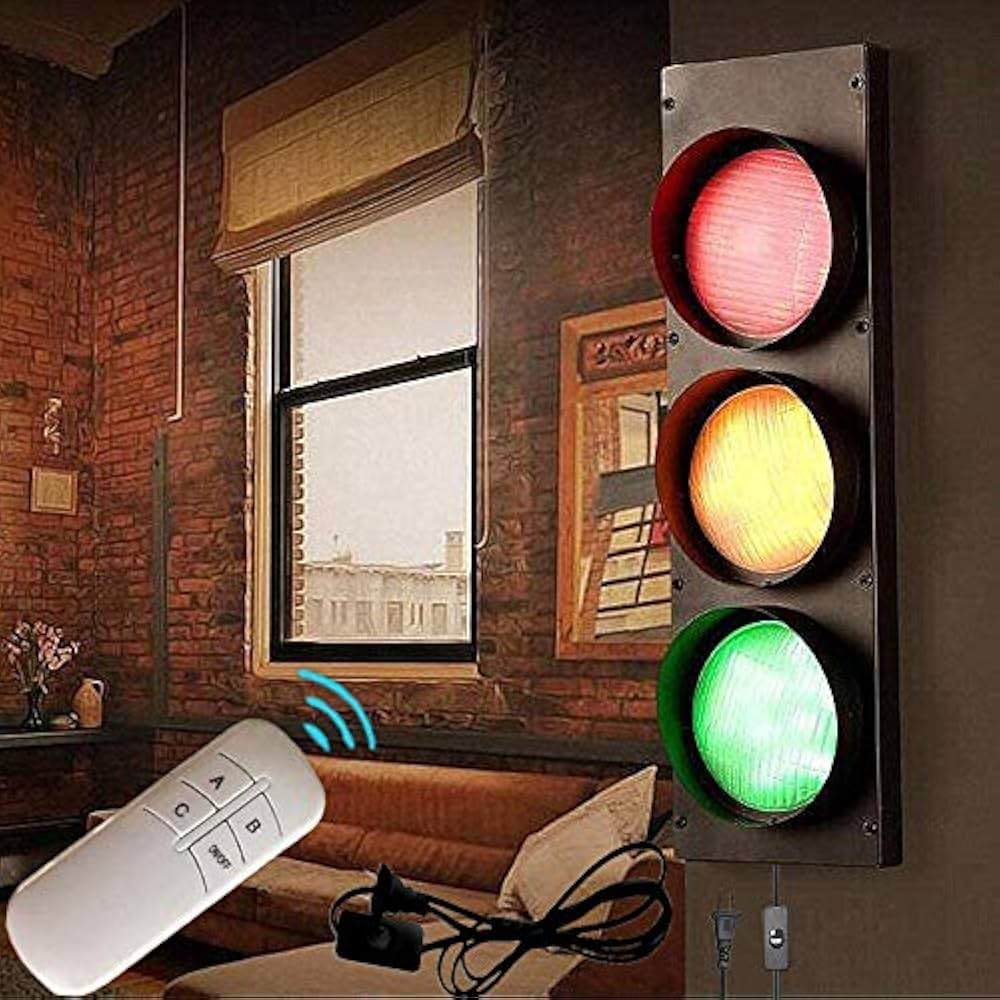TraficLight: (618, 61, 927, 875)
